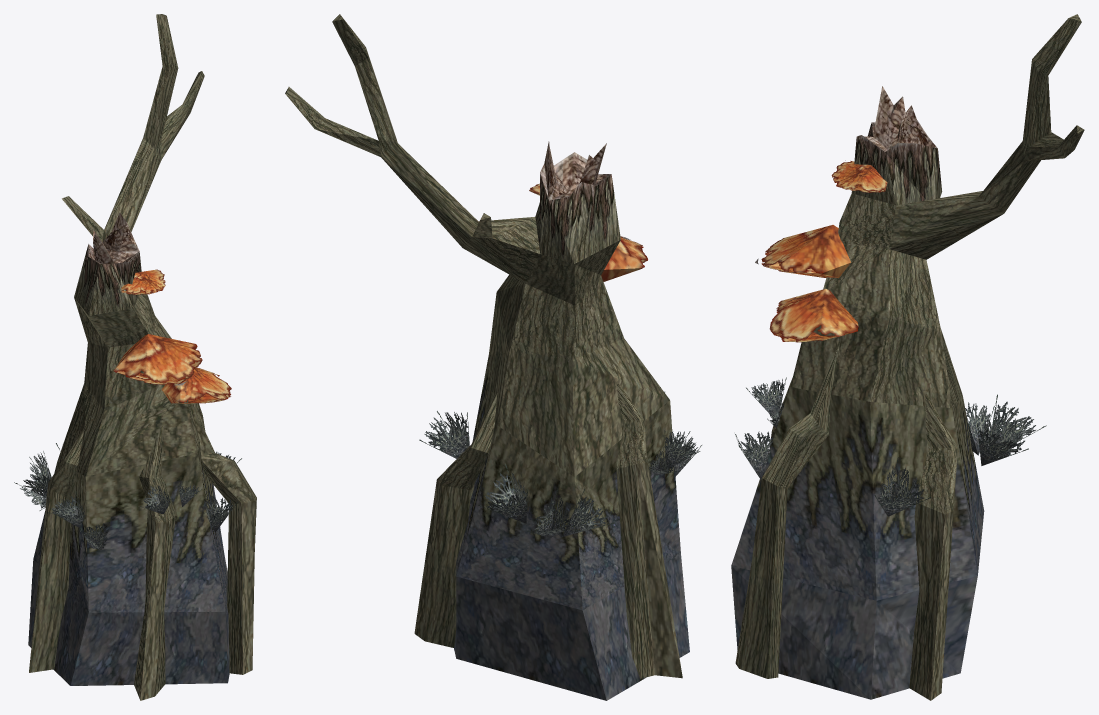
File: C4SNTREESTUMPB.obj
3 renders of one model, left to right at view 1: azimuth 30°, elevation 25°; view 2: azimuth 150°, elevation 25°; view 3: azimuth 270°, elevation 25°, orthographic. The views are drawn at different scales.
Visible parts, largest first — view 1: Node 0; view 2: Node 0; view 3: Node 0.
Boxes of the visible parts, left/top/right/bottom form: Node 0: left=14, top=14, right=256, bottom=700; Node 0: left=285, top=14, right=701, bottom=700; Node 0: left=731, top=14, right=1084, bottom=700.
Size of the model in its own units: 5.09 by 10.69 by 4.96.
1 material, 1 textured.
